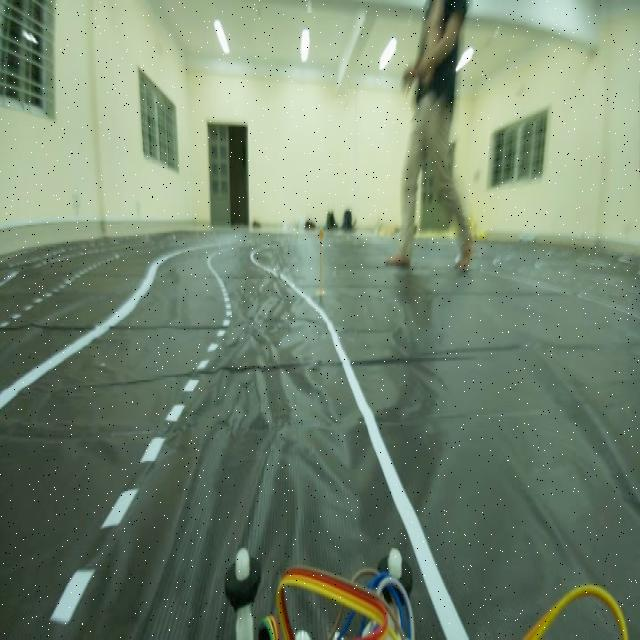priority: (315, 221, 328, 246)
